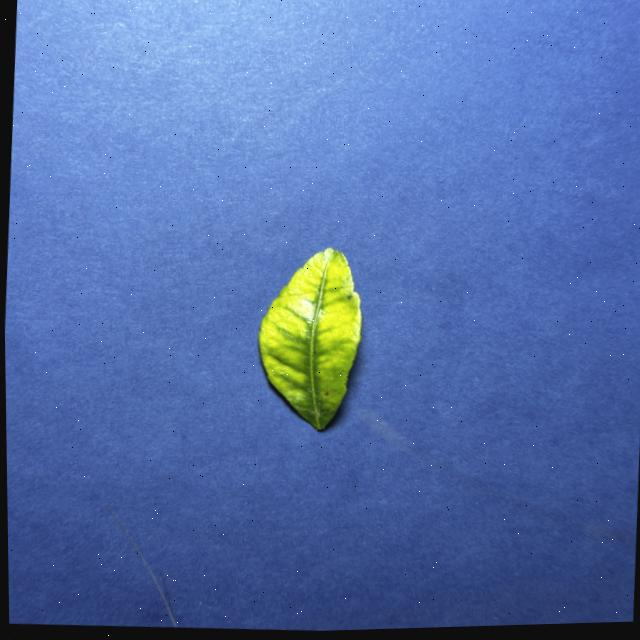greening: (258, 247, 360, 429)
